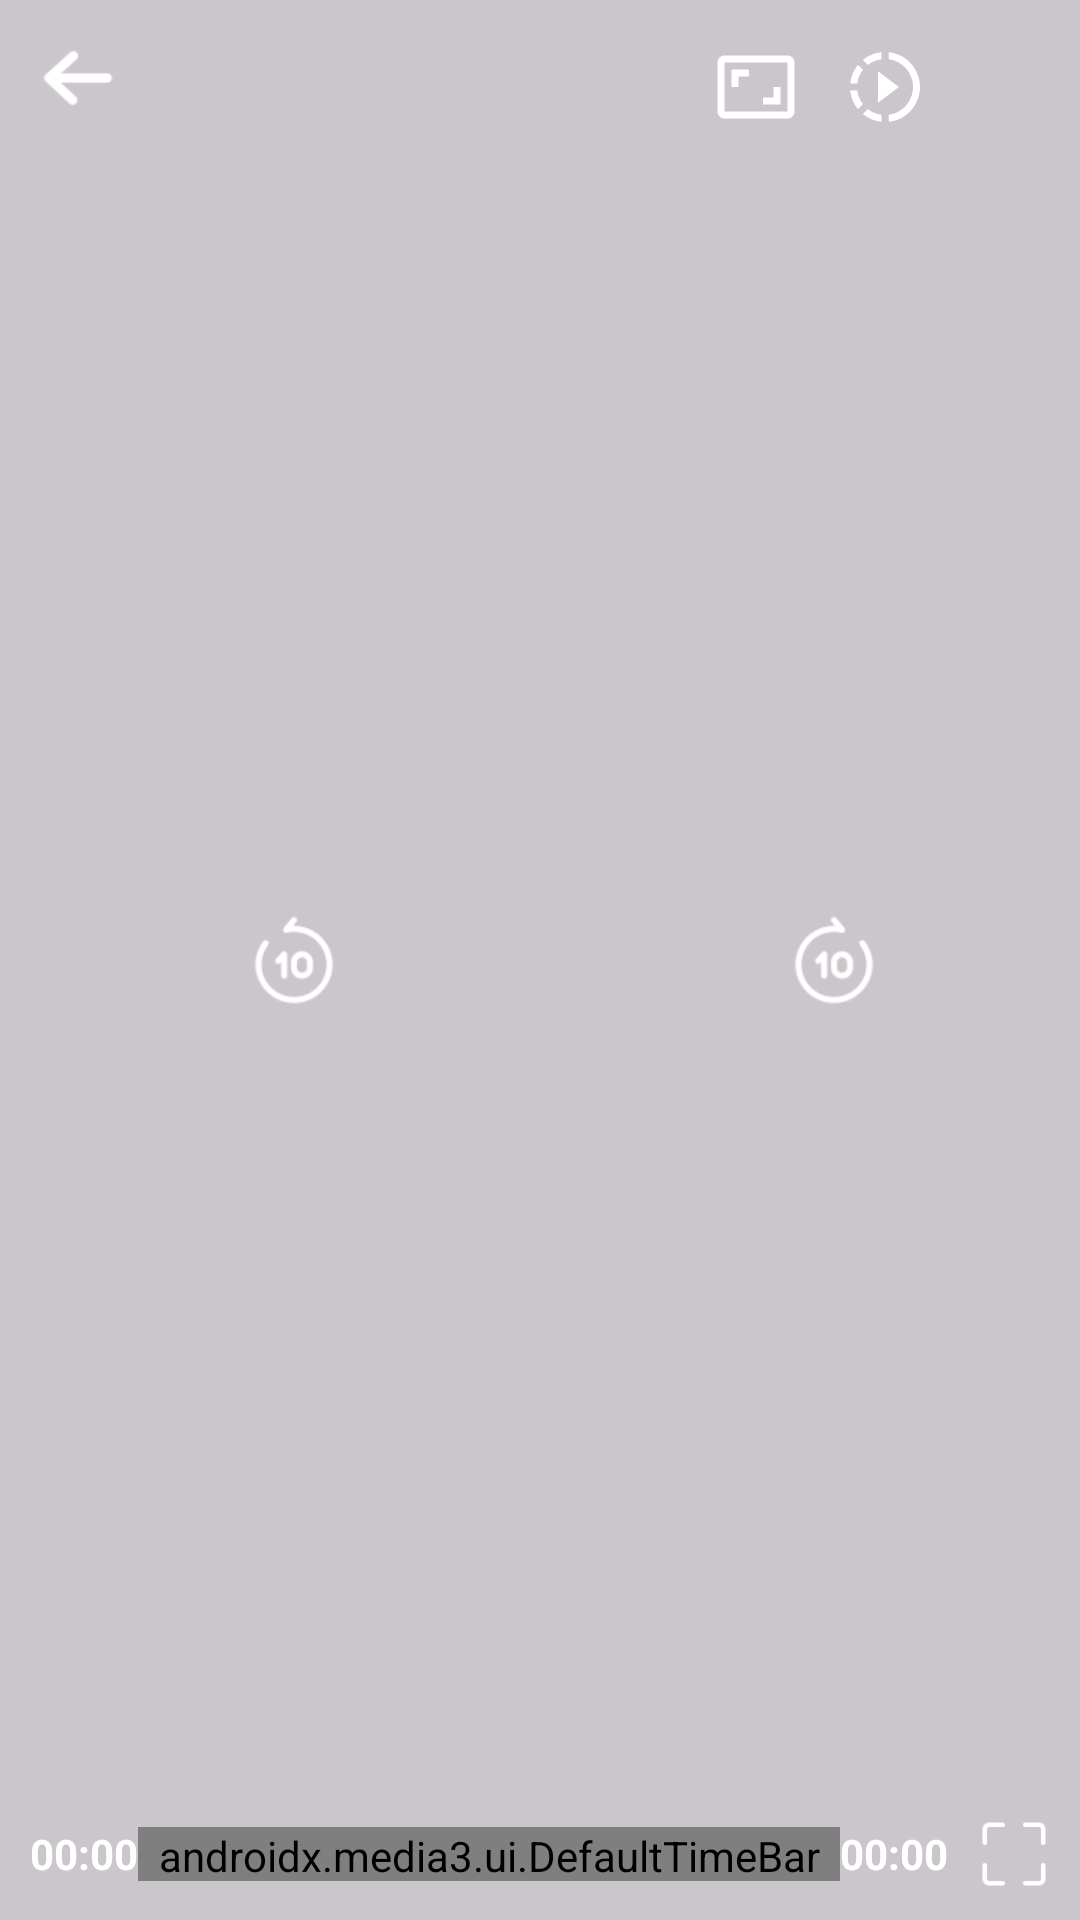

Screen size 1080 x 1920. Icon name, then its center in pixels as [x,y]:
aspect ratio: [756,87]
backbutton: [78,78]
backward: [294,960]
forward: [834,960]
slow motion video: [885,87]
